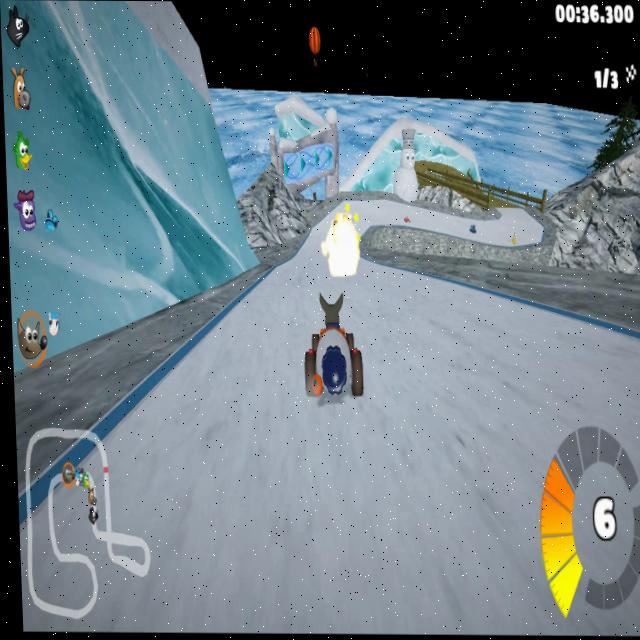enemy_kart: (467, 222, 480, 236), (402, 211, 413, 223)
obstacle: (507, 231, 520, 245)
player_kart: (298, 294, 365, 402)
track: (21, 507, 640, 626), (91, 446, 640, 511), (135, 402, 640, 444), (364, 296, 540, 406), (227, 317, 303, 400), (538, 343, 640, 404), (294, 245, 365, 287), (185, 336, 228, 402), (363, 271, 433, 298), (258, 277, 298, 313), (416, 208, 468, 234), (353, 201, 395, 225), (506, 204, 532, 225), (483, 222, 507, 238), (524, 226, 542, 244)
